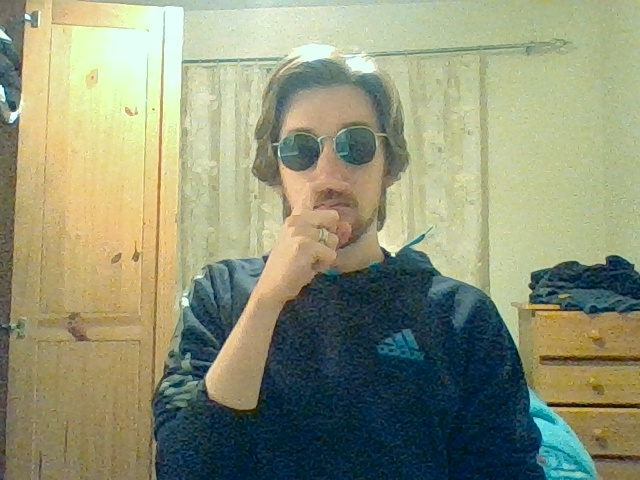sister: (286, 179, 353, 283)
